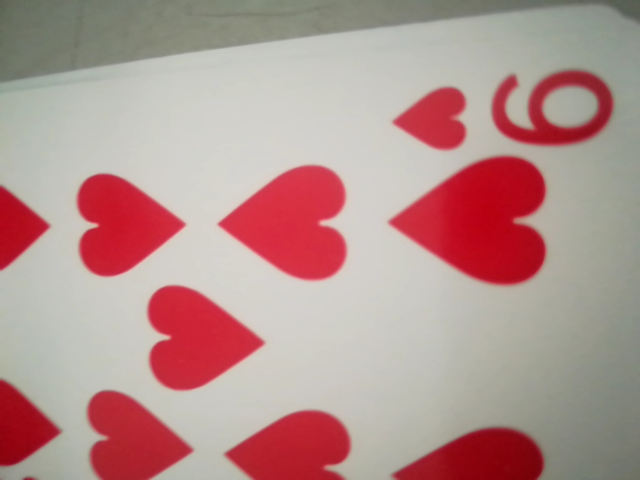hx 9: (389, 64, 617, 163)
